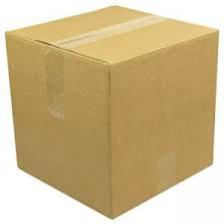cardboard: (4, 2, 224, 215)
